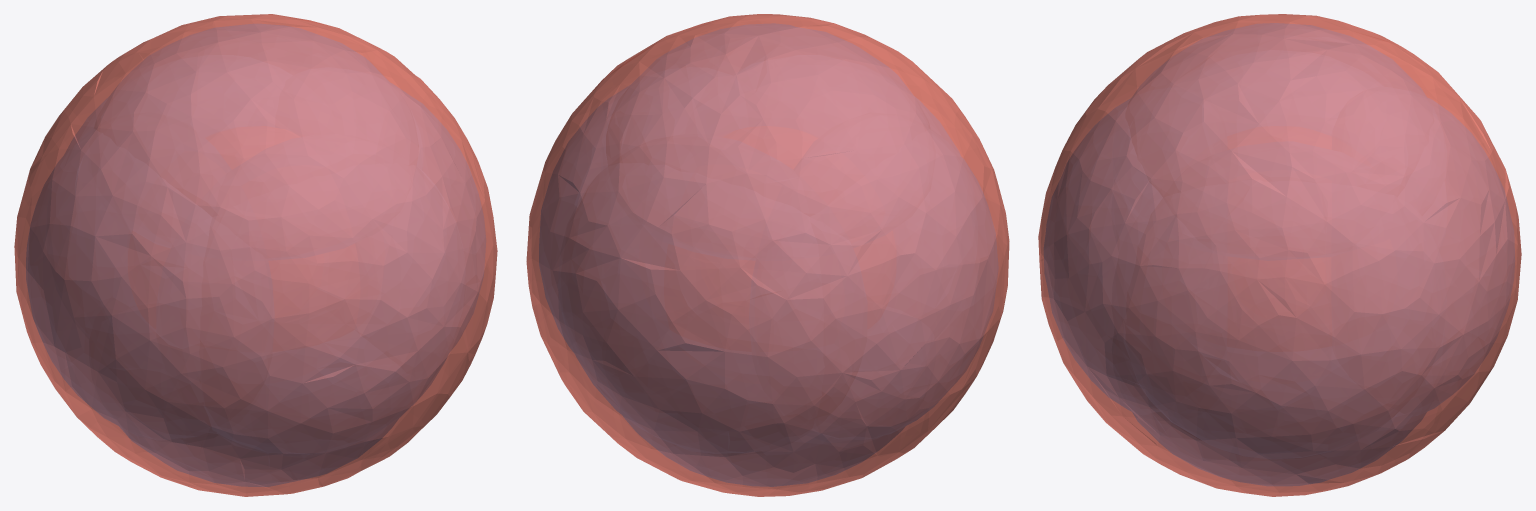
File: orbital.glb
3 renders of one model, left to right at view 1: azimuth 30°, elevation 25°; view 2: azimuth 150°, elevation 25°; view 3: azimuth 270°, elevation 25°, orthographic.
Parts seen in each view (by area): view 1: Ne_n2_s_ml0_node, Ne_n2_p_ml0_node, Ne_n2_p_ml1_node, Ne_n2_p_ml-1_node; view 2: Ne_n2_s_ml0_node, Ne_n2_p_ml0_node, Ne_n2_p_ml1_node, Ne_n2_p_ml-1_node; view 3: Ne_n2_s_ml0_node, Ne_n2_p_ml1_node, Ne_n2_p_ml-1_node, Ne_n2_p_ml0_node.
Boxes of the visible parts, left/top/right/bottom form: Ne_n2_s_ml0_node: left=14, top=14, right=497, bottom=496; Ne_n2_p_ml0_node: left=66, top=97, right=465, bottom=453; Ne_n2_p_ml1_node: left=26, top=84, right=485, bottom=440; Ne_n2_p_ml-1_node: left=94, top=24, right=418, bottom=486; Ne_n2_s_ml0_node: left=526, top=14, right=1009, bottom=496; Ne_n2_p_ml0_node: left=558, top=98, right=959, bottom=453; Ne_n2_p_ml1_node: left=539, top=85, right=998, bottom=439; Ne_n2_p_ml-1_node: left=606, top=23, right=929, bottom=486; Ne_n2_s_ml0_node: left=1038, top=14, right=1521, bottom=496; Ne_n2_p_ml1_node: left=1126, top=180, right=1432, bottom=458; Ne_n2_p_ml-1_node: left=1125, top=23, right=1433, bottom=485; Ne_n2_p_ml0_node: left=1044, top=98, right=1514, bottom=415.
Bounding box in the file's own units: 1.07 × 1.07 × 1.07.
